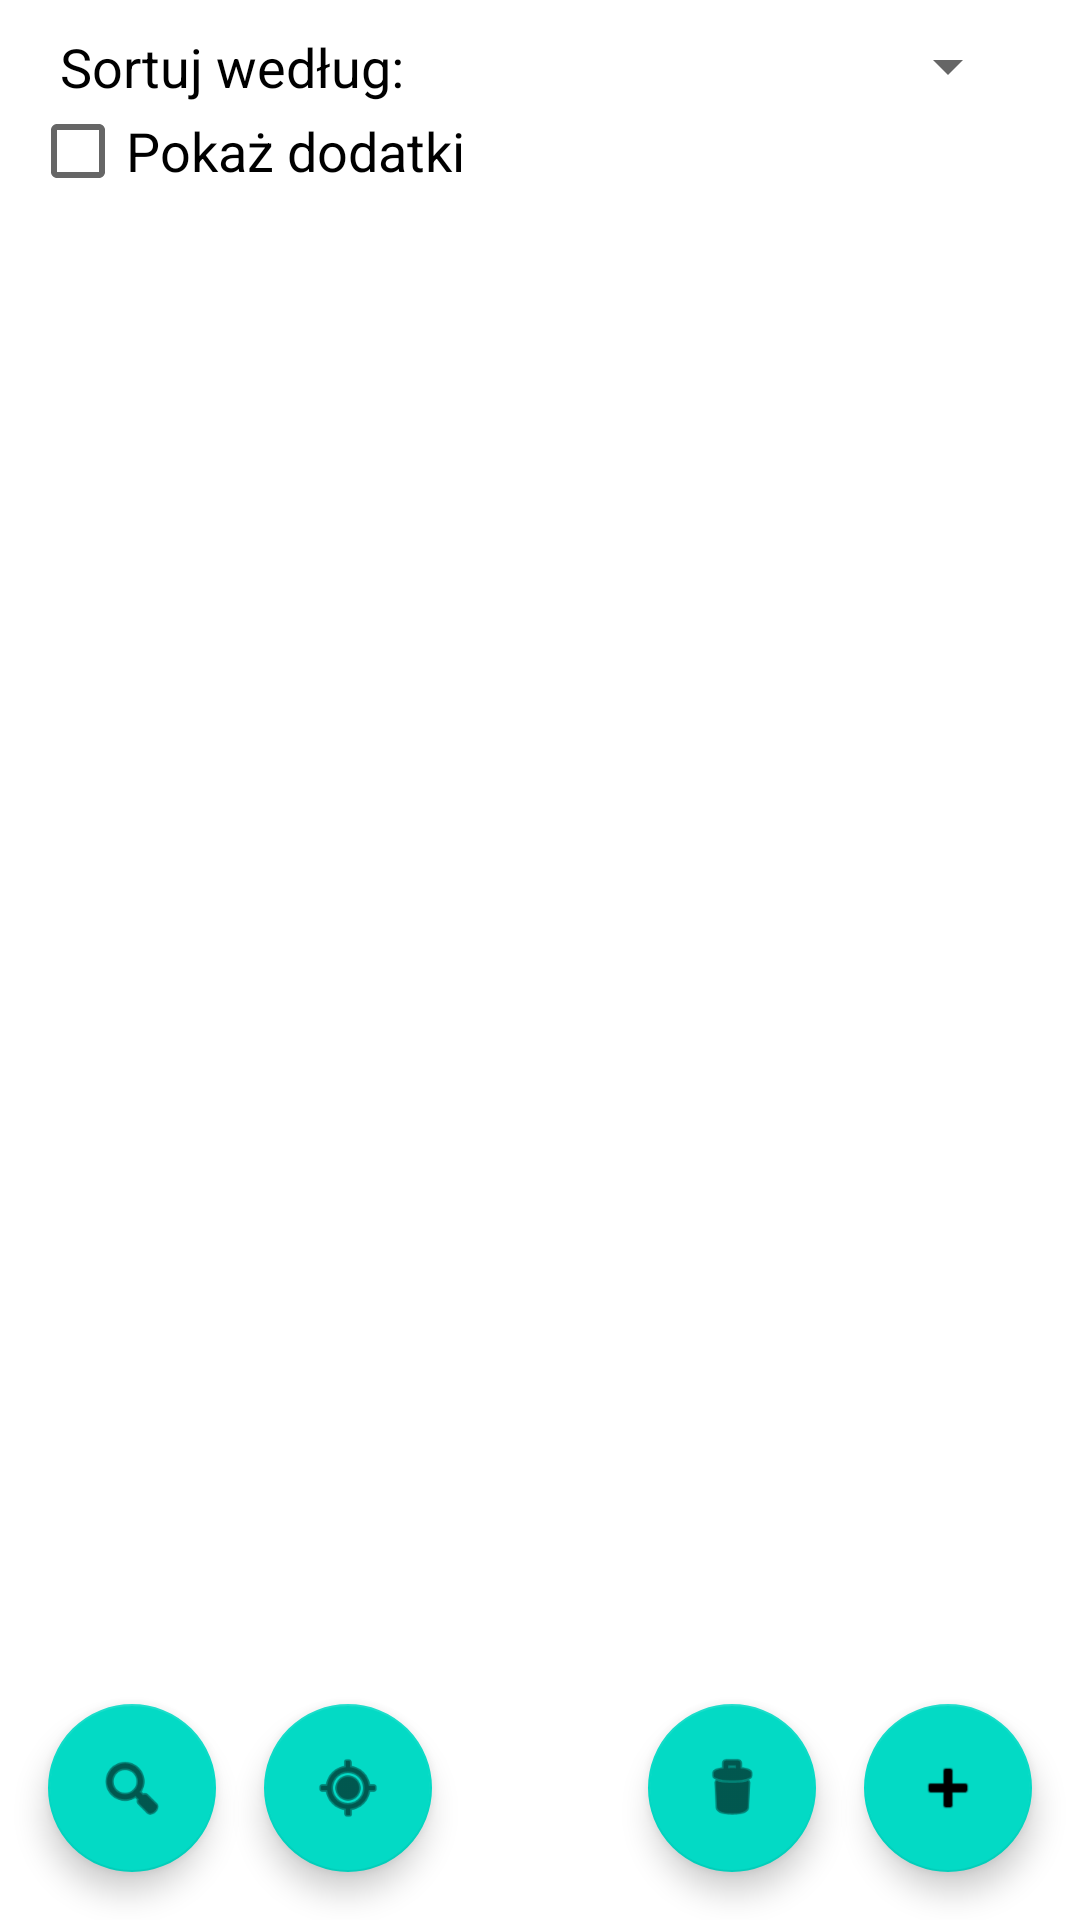

Screen size 1080 x 1920. Icon name, then its box in pixels as (x1=x1, y1=y1, x2=x2, y2=y2):
add: (x1=864, y1=1704, x2=1032, y2=1872)
delete: (x1=648, y1=1704, x2=816, y2=1872)
mylocation: (x1=264, y1=1704, x2=432, y2=1872)
search: (x1=48, y1=1704, x2=216, y2=1872)
